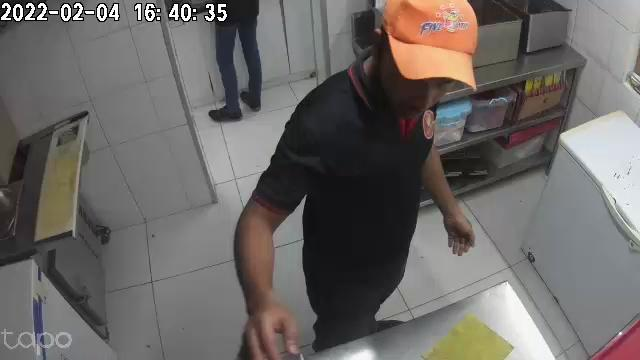no_gloves: (444, 204, 476, 257)
